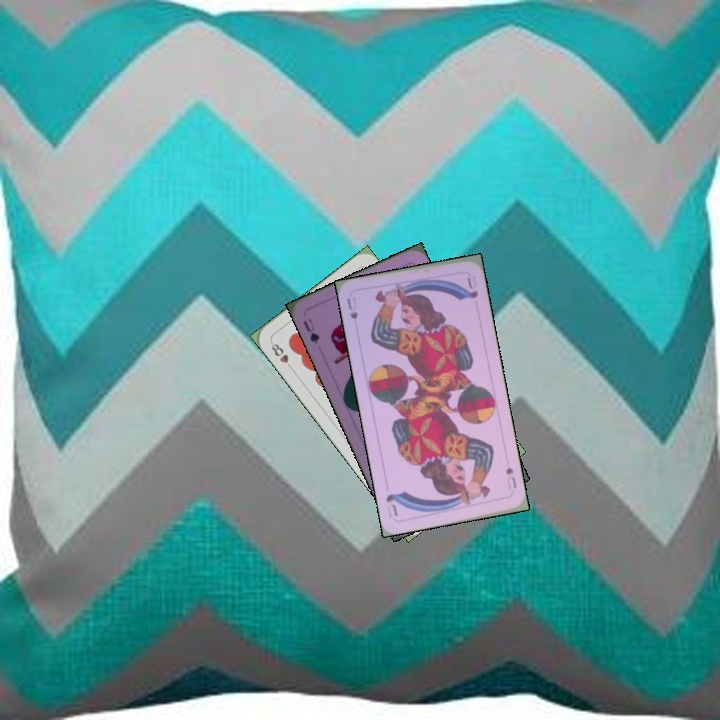GU: (299, 314, 322, 346)
H8: (267, 338, 296, 373)
SU: (343, 293, 361, 322), (502, 463, 519, 491)
